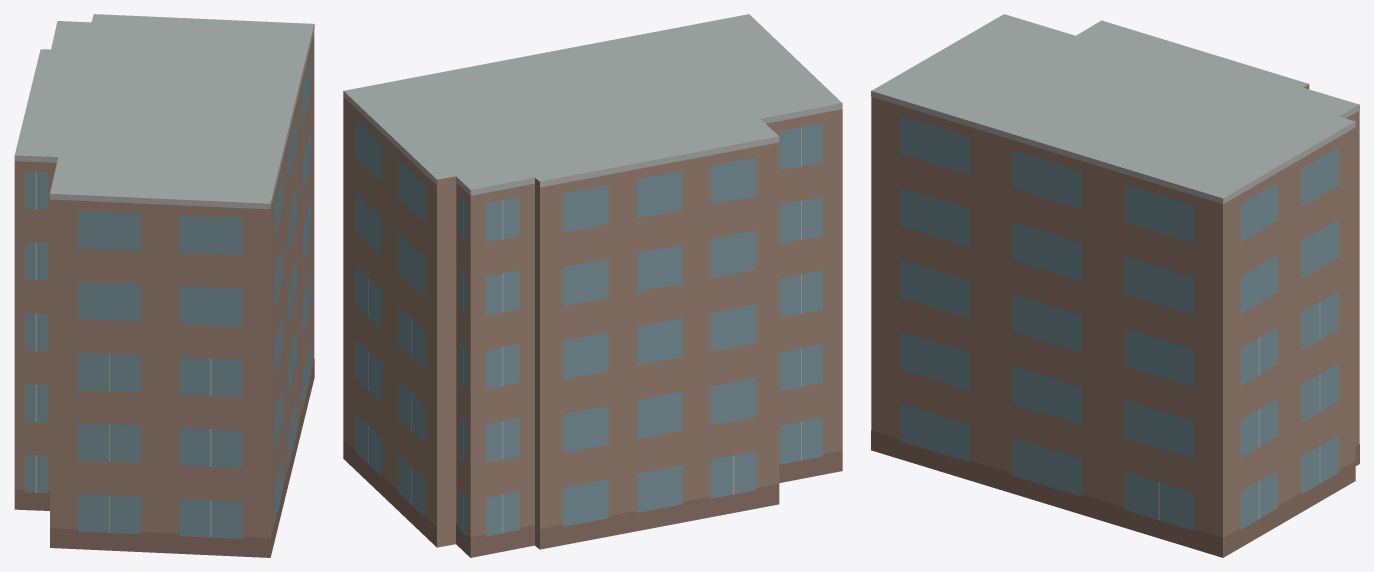
Rendered from survey-upis-32837713.glb.
3 views of the same model, side by side, from view 1: azimuth 30°, elevation 25°; view 2: azimuth 150°, elevation 25°; view 3: azimuth 270°, elevation 25° (orthographic). The views are drawn at different scales.
Parts seen in each view (by area): view 1: survey-upis-32837713.tmp; view 2: survey-upis-32837713.tmp; view 3: survey-upis-32837713.tmp.
Part boxes in pixels (x1,y1,x2,y2): survey-upis-32837713.tmp: (14, 14, 314, 557); survey-upis-32837713.tmp: (343, 14, 842, 557); survey-upis-32837713.tmp: (871, 14, 1359, 557).
Size of the model in its own units: 16.57 by 15.05 by 18.55.
